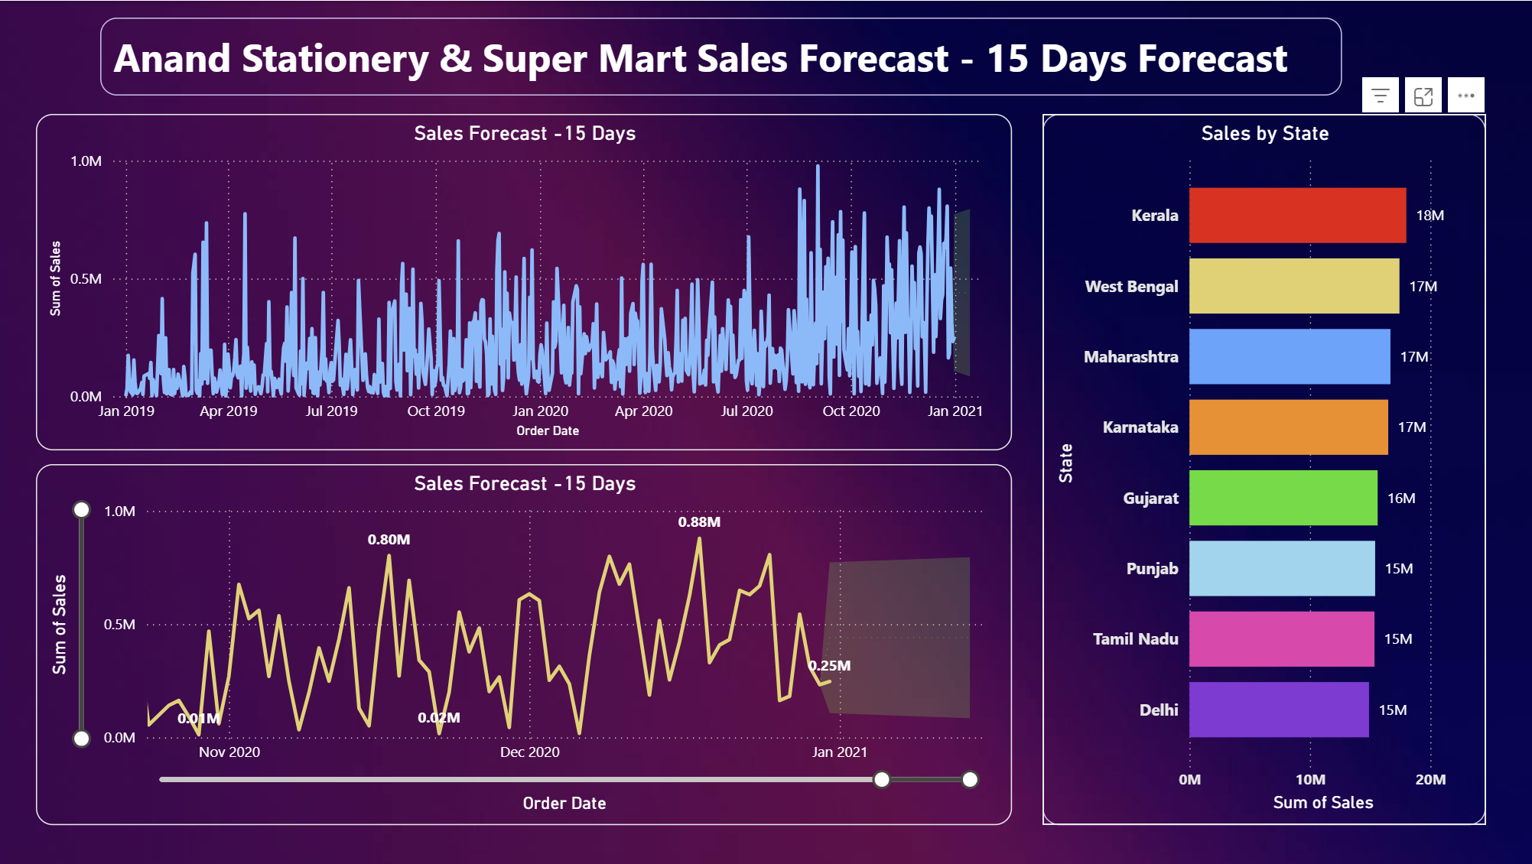

This screenshot's page, from the dashboard's own definition file:
{"tool":"powerbi","page":{"name":"Page 2","canvas":[1280,720],"ordinal":1},"visuals":[{"type":"lineChart","title":"Sales Forecast -15 Days","fields":{"Y":["Sum(Copy of SuperStore_India_Formatted(1).Sales)"],"Category":["Copy of SuperStore_India_Formatted(1).Order Date"]},"box":[30.6,94.3,813.4,280.5],"z":0},{"type":"lineChart","title":"Sales Forecast -15 Days","fields":{"Y":["Sum(Copy of SuperStore_India_Formatted(1).Sales)"],"Category":["Copy of SuperStore_India_Formatted(1).Order Date"]},"box":[30.6,386.3,813.4,300.9],"z":1000},{"type":"textbox","box":[84.1,14,1035.2,65],"z":2000},{"type":"clusteredBarChart","title":"Sales by State","fields":{"Category":["Copy of SuperStore_India_Formatted(1).State"],"Y":["Sum(Copy of SuperStore_India_Formatted(1).Sales)"]},"box":[869.5,94.3,369.7,592.8],"z":3000}]}

Visuals, with their boxes in screenshot pixels (x1, y1, x2, y2), scaled from the page's 1280x720 canvas onto the 1532x864 screenshot:
"Sales Forecast -15 Days" lineChart: bbox=(37, 113, 1010, 450)
"Sales Forecast -15 Days" lineChart: bbox=(37, 464, 1010, 825)
textbox: bbox=(101, 17, 1340, 95)
"Sales by State" clusteredBarChart: bbox=(1041, 113, 1483, 825)
